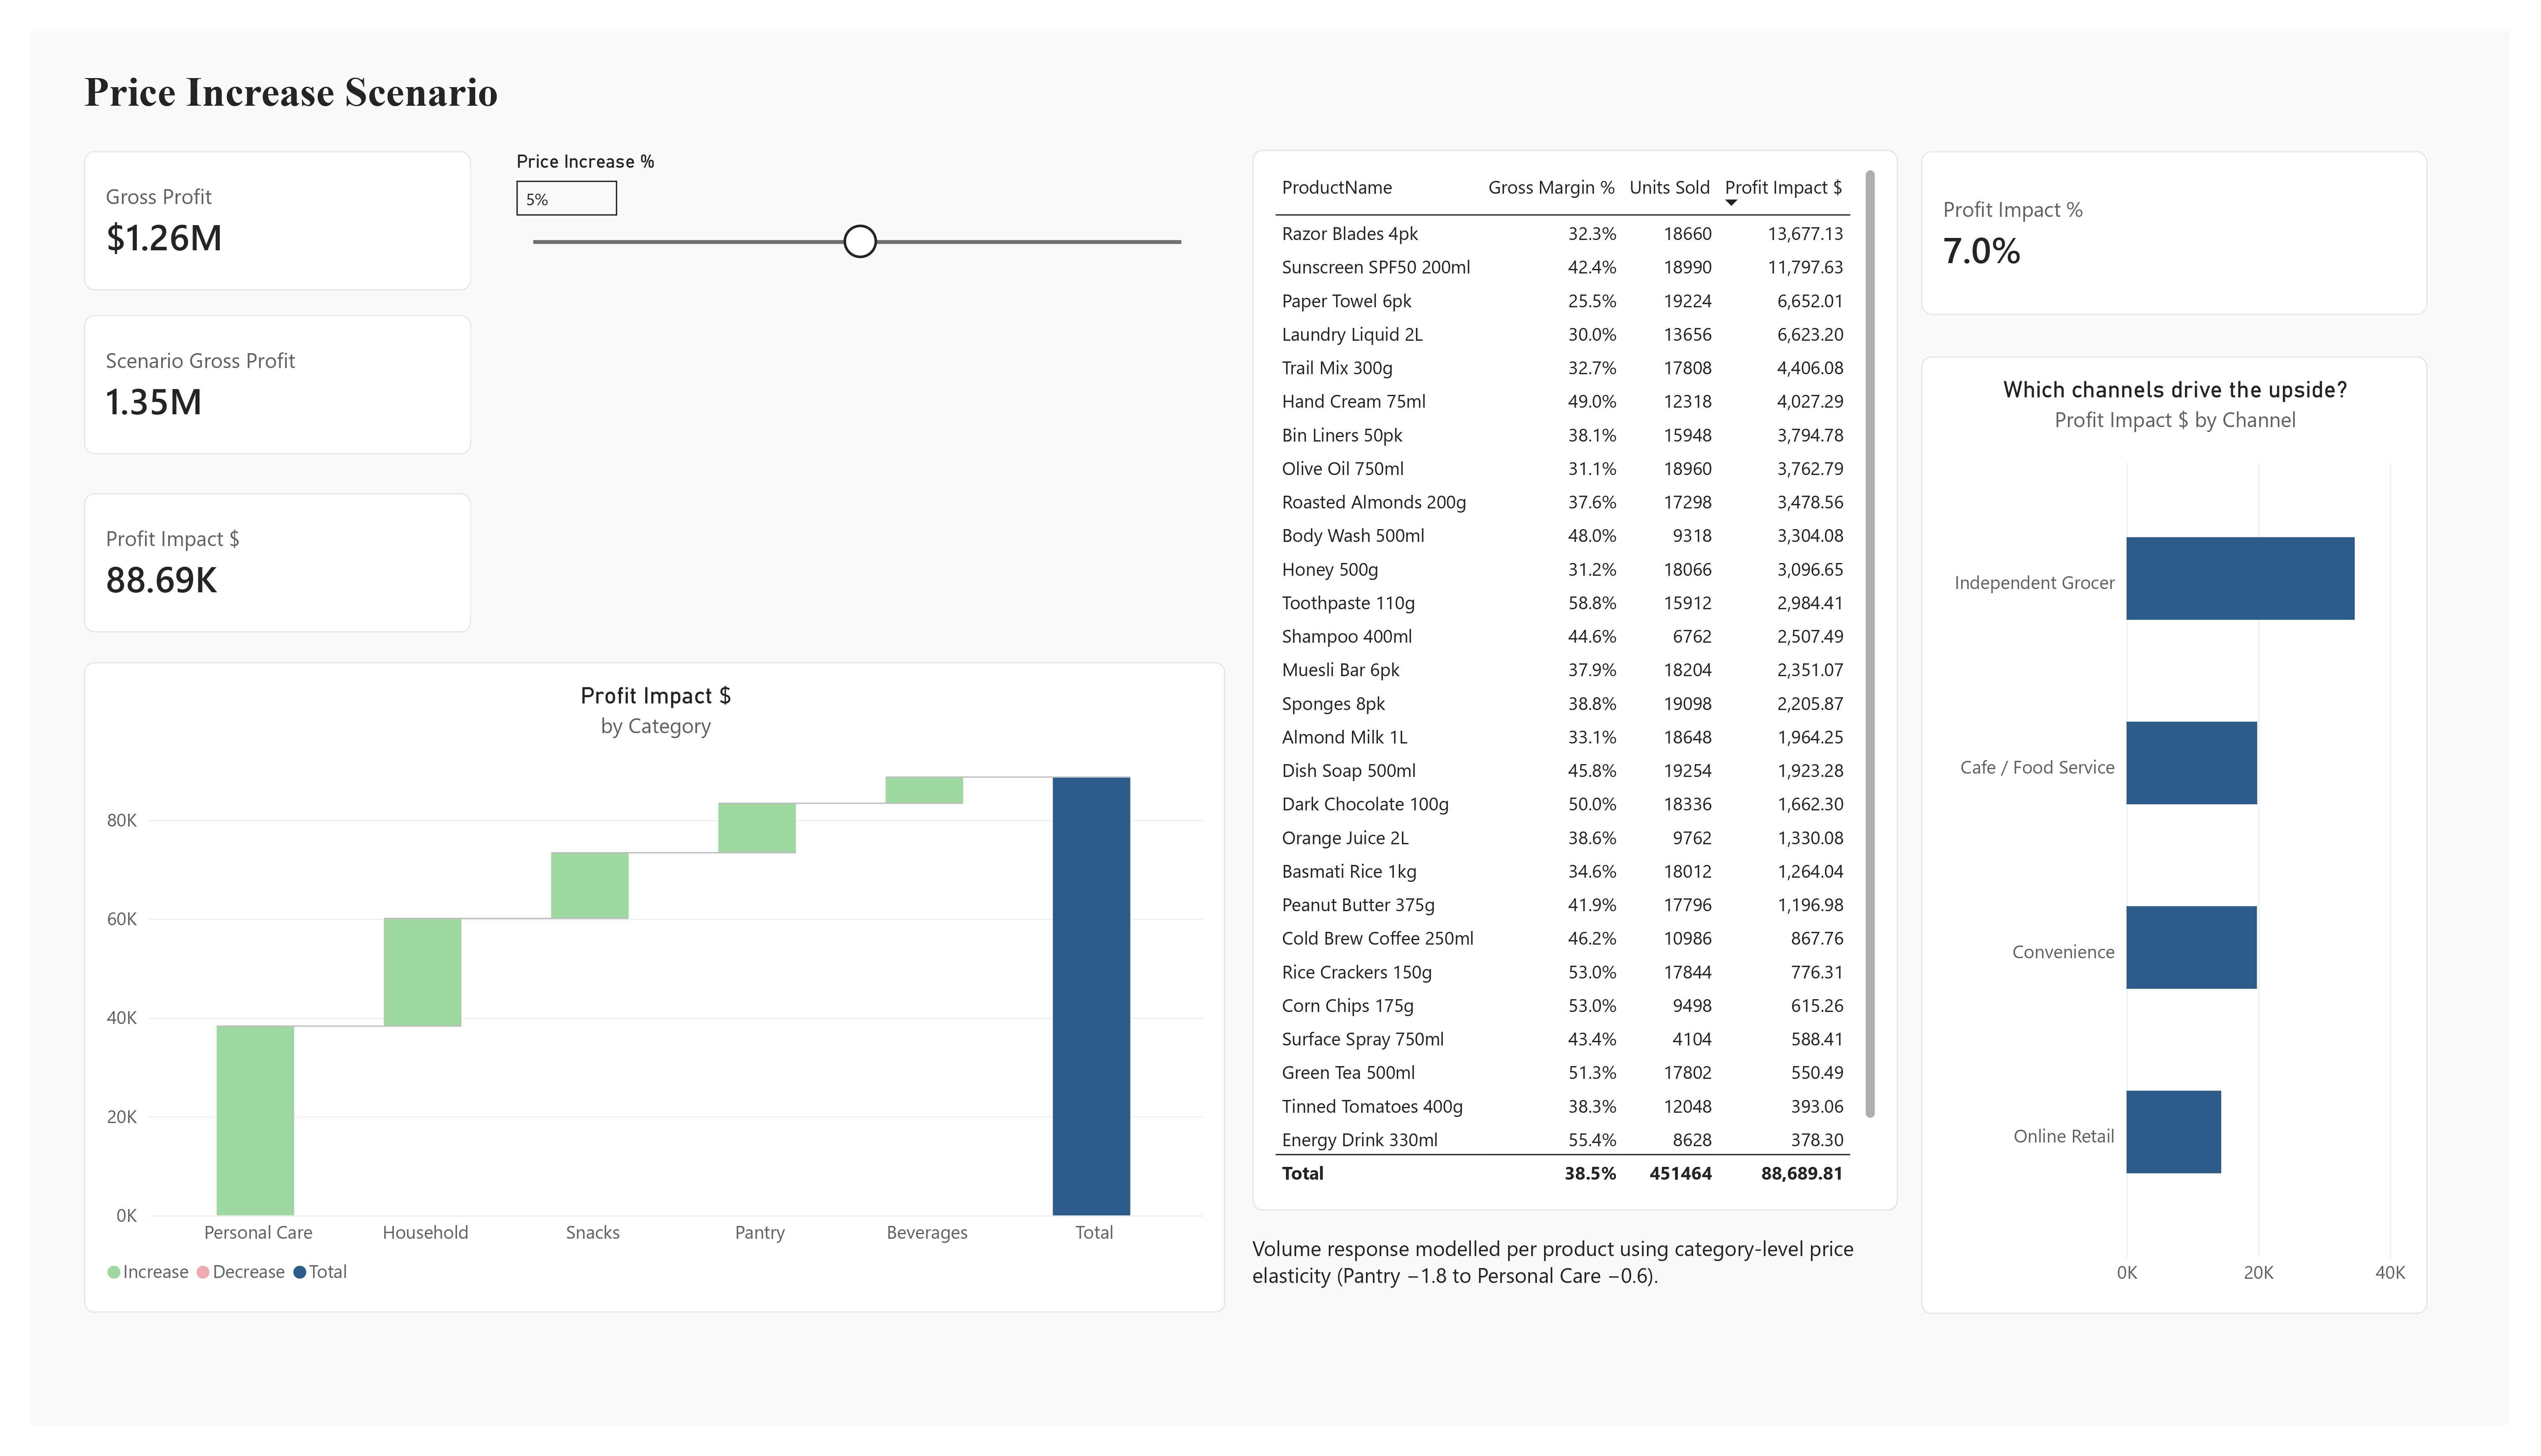

This screenshot's page, from the dashboard's own definition file:
{"tool":"powerbi","page":{"name":"Price Scenario","canvas":[1920,1080],"ordinal":2},"visuals":[{"type":"slicer","fields":{"Values":["Price Increase %.Price Increase %"]},"box":[368,92.5,540.8,183],"z":0},{"type":"waterfallChart","fields":{"Category":["DimProduct.Category"],"Y":["_Measures.Profit Impact $"]},"box":[41.1,489.4,884.1,503.7],"z":1000},{"type":"cardVisual","fields":{"Data":["_Measures.Gross Profit"]},"box":[41.1,92.5,300.2,109],"z":2000},{"type":"tableEx","fields":{"Values":["DimProduct.ProductName","_Measures.Gross Margin %","_Measures.Units Sold","_Measures.Profit Impact $"]},"box":[946,92,500,822],"z":3000},{"type":"textbox","box":[946,932,500,62],"z":4000},{"type":"cardVisual","fields":{"Data":["_Measures.Scenario Gross Profit"]},"box":[41.1,220,300.2,109],"z":5000},{"type":"cardVisual","fields":{"Data":["_Measures.Profit Impact $"]},"box":[41.1,357.8,300.2,109],"z":6000},{"type":"textbox","box":[41.1,28.8,1120.6,41.1],"z":7000},{"type":"cardVisual","fields":{"Data":["_Measures.Profit Impact %"]},"box":[1464,92.5,392.7,127.5],"z":8000},{"type":"clusteredBarChart","title":"Which channels drive the upside?","fields":{"Category":["DimCustomer.Channel"],"Y":["_Measures.Profit Impact $"]},"box":[1464,252,392,742],"z":9000}]}

Visuals, with their boxes on the page's 1920x1080 design canvas (x1, y1, x2, y2). These are canvas units, not pixel positions in the 2541x1456 screenshot, which may show the page scaled, cropped or inside an application window:
slicer - Price Increase %.Price Increase %: bbox=(368, 92, 909, 276)
waterfallChart - DimProduct.Category x _Measures.Profit Impact $: bbox=(41, 489, 925, 993)
cardVisual - _Measures.Gross Profit: bbox=(41, 92, 341, 202)
tableEx - DimProduct.ProductName x _Measures.Gross Margin %: bbox=(946, 92, 1446, 914)
textbox: bbox=(946, 932, 1446, 994)
cardVisual - _Measures.Scenario Gross Profit: bbox=(41, 220, 341, 329)
cardVisual - _Measures.Profit Impact $: bbox=(41, 358, 341, 467)
textbox: bbox=(41, 29, 1162, 70)
cardVisual - _Measures.Profit Impact %: bbox=(1464, 92, 1857, 220)
"Which channels drive the upside?" clusteredBarChart: bbox=(1464, 252, 1856, 994)
